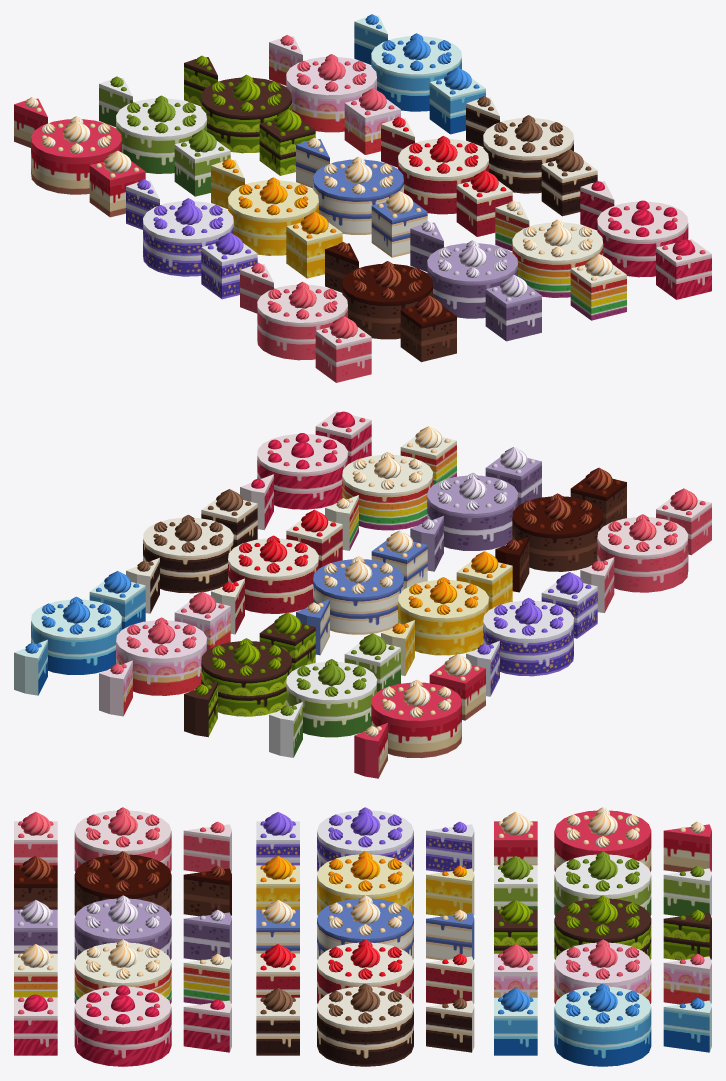
Rendered from maya2sketchfab.fbx.
3 renders of one model, top to bottom at view 1: azimuth 30°, elevation 25°; view 2: azimuth 150°, elevation 25°; view 3: azimuth 270°, elevation 25°, orthographic. The views are drawn at different scales.
Parts seen in each view (by area): view 1: Whole (×15), Cube (×15), Slice (×15); view 2: Whole (×15), Cube (×15), Slice (×15); view 3: Whole (×15), Slice (×15), Cube (×15).
Boxes of the visible parts, <box> form: Whole (×15): <box>31,33,688,360</box>; Cube (×15): <box>89,67,711,382</box>; Slice (×15): <box>14,14,614,313</box>; Whole (×15): <box>31,433,688,758</box>; Cube (×15): <box>89,411,711,720</box>; Slice (×15): <box>14,474,614,778</box>; Whole (×15): <box>74,807,651,1066</box>; Slice (×15): <box>183,821,711,1052</box>; Cube (×15): <box>14,811,537,1055</box>.
Size of the model in its own units: 212 by 26.62 by 288.
16 materials, 16 textured.
